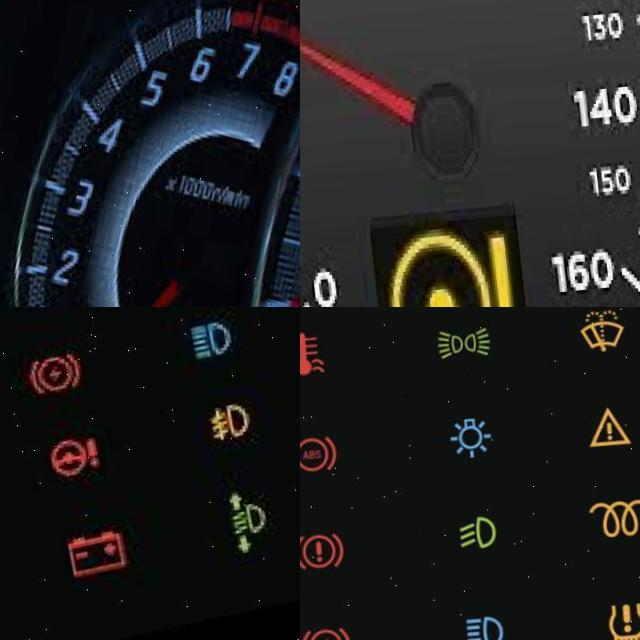Electronic Power Steering: (376, 228, 507, 307)
Electronic Power Steering Warning: (33, 441, 95, 489)
Washer Fluid: (573, 316, 624, 363)
